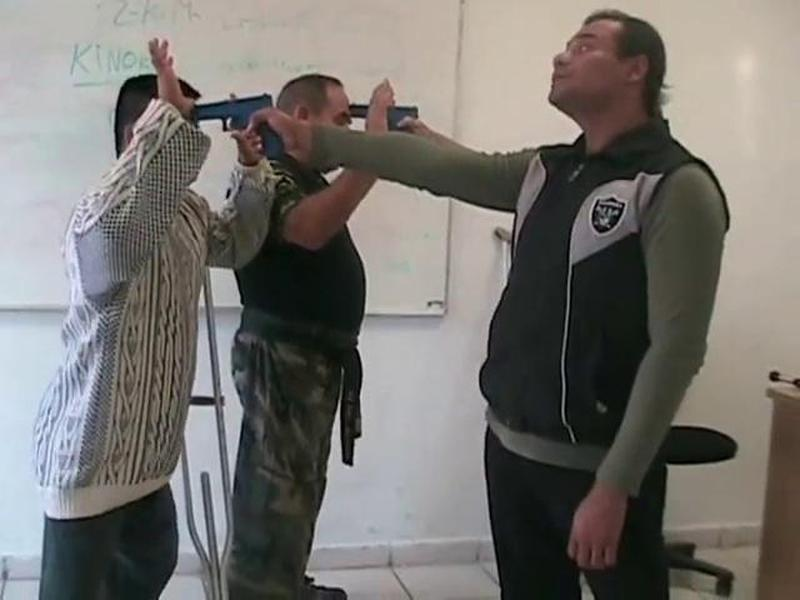Pistola: (188, 93, 294, 178)
